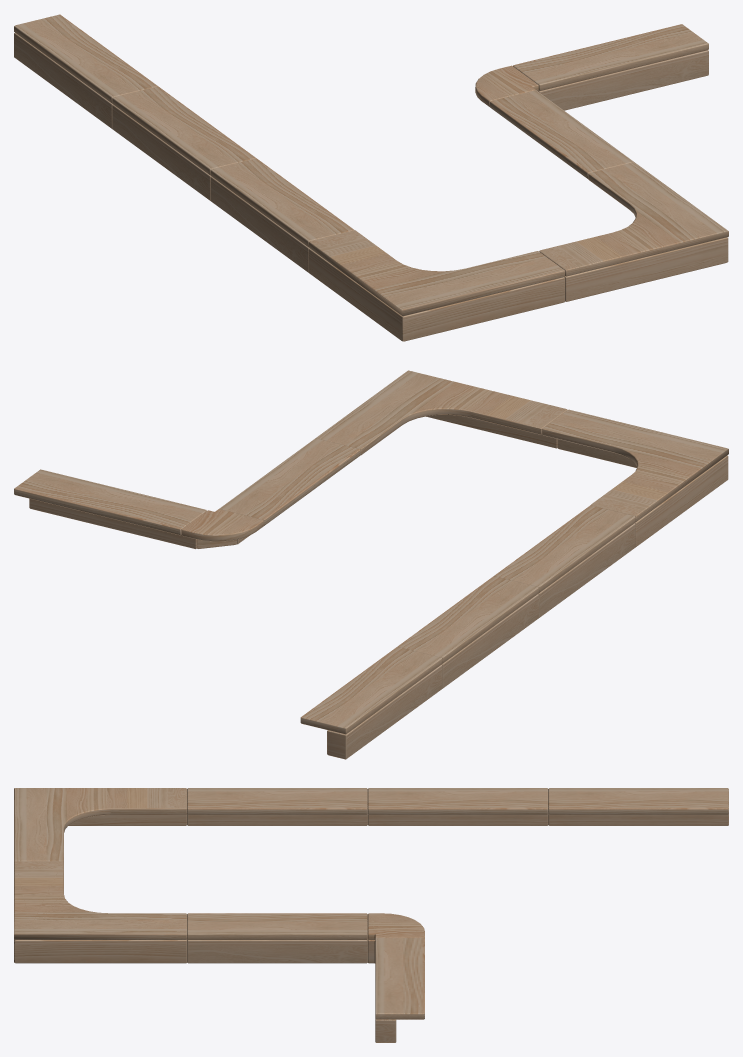
The model's file is StandTable.fbx.
3 views of the same model, one above another, from view 1: azimuth 30°, elevation 25°; view 2: azimuth 150°, elevation 25°; view 3: azimuth 270°, elevation 25° (orthographic). The views are drawn at different scales.
Parts seen in each view (by area): view 1: StandTable; view 2: StandTable; view 3: StandTable.
Part boxes in pixels (x1=…): StandTable: x1=14, y1=14, x2=728, y2=341; StandTable: x1=14, y1=370, x2=728, y2=759; StandTable: x1=14, y1=788, x2=728, y2=1042.
Bounding box in the file's own units: 740 × 45.64 × 990.
